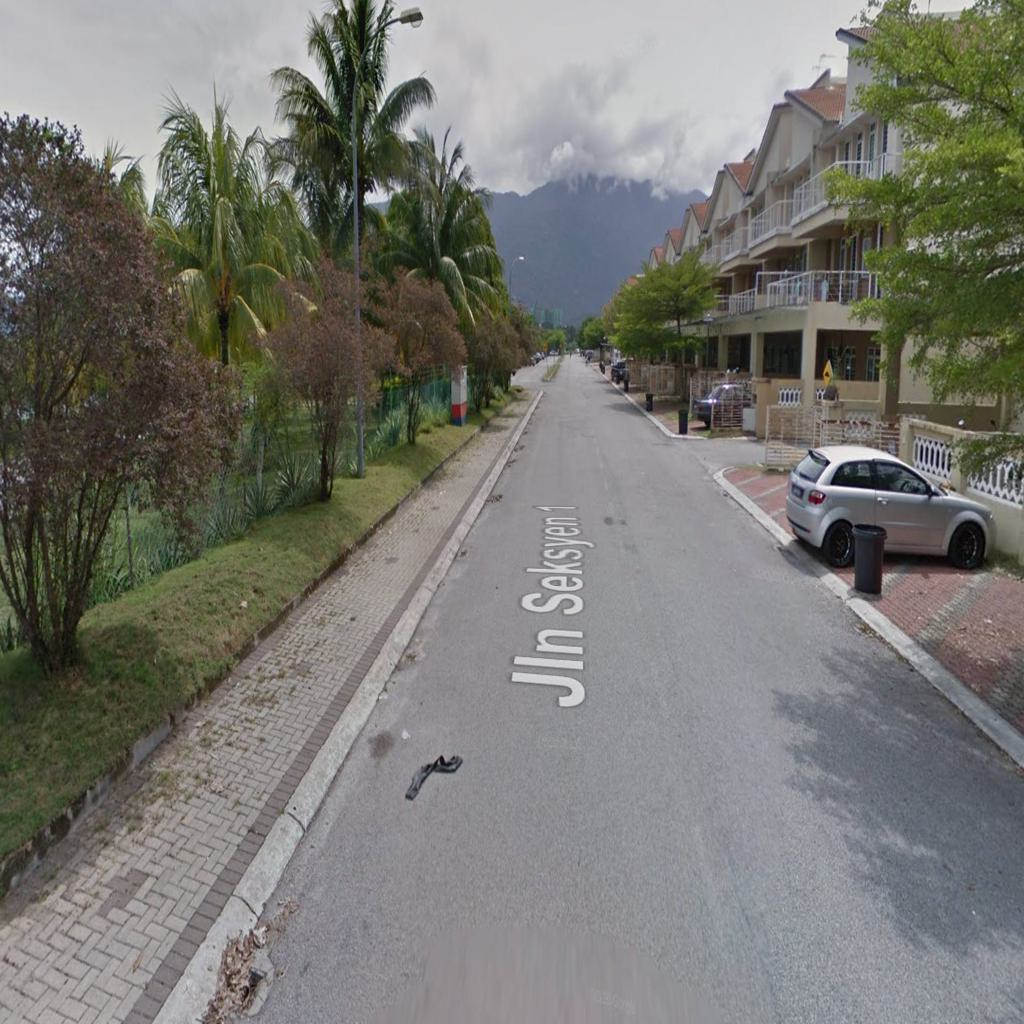Junction: (642, 405, 798, 482)
